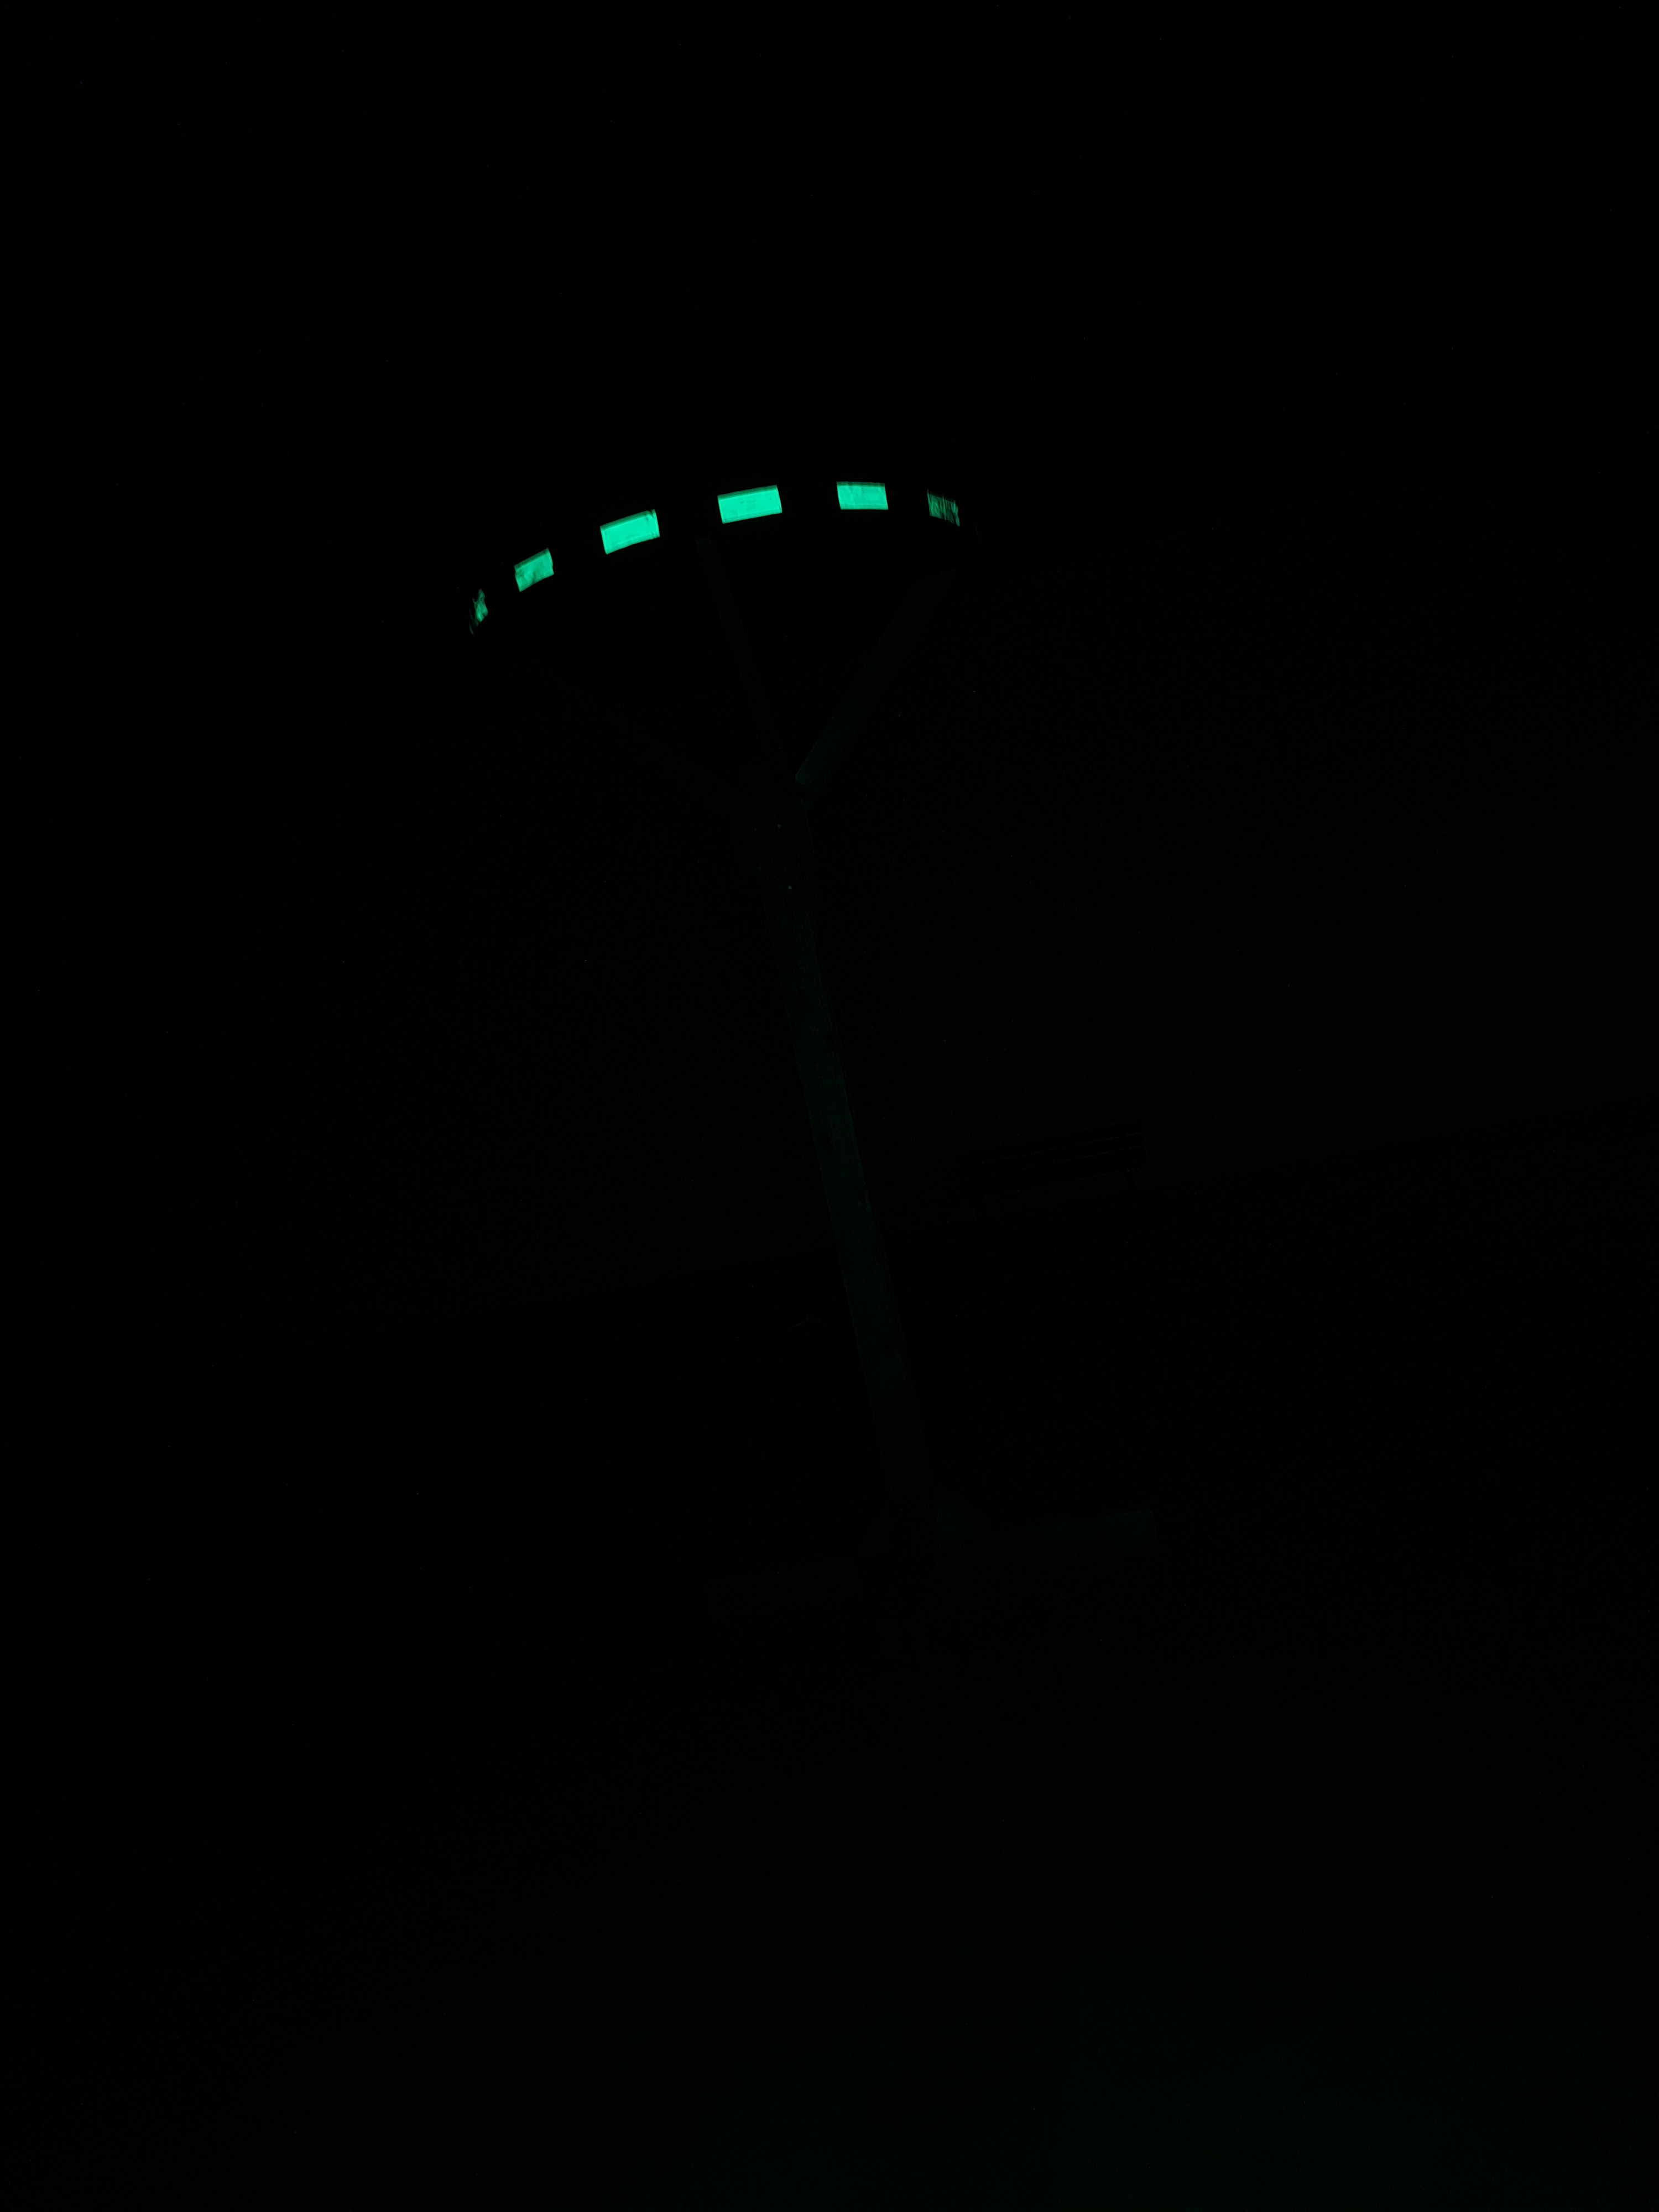hoop: (467, 472, 979, 629)
